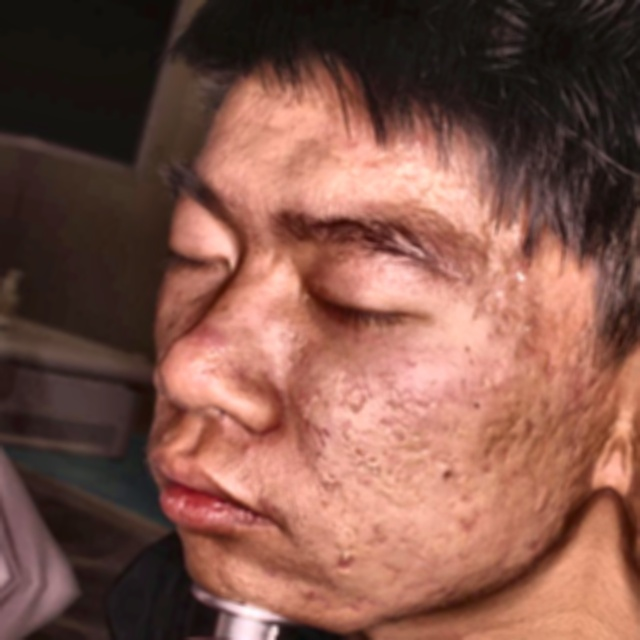comedone: (186, 312, 228, 367), (326, 541, 361, 578)
